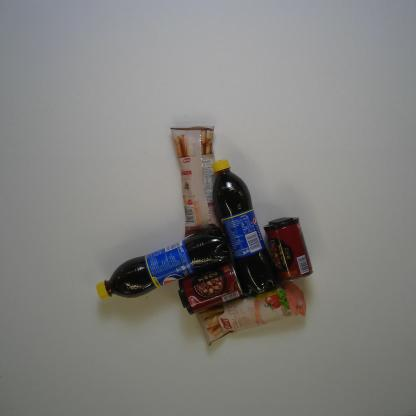Canned Food: (177, 262, 245, 316), (263, 216, 314, 283)
Dessert: (194, 280, 308, 347), (170, 122, 224, 238)
Drink: (95, 226, 232, 301), (211, 158, 280, 296)
